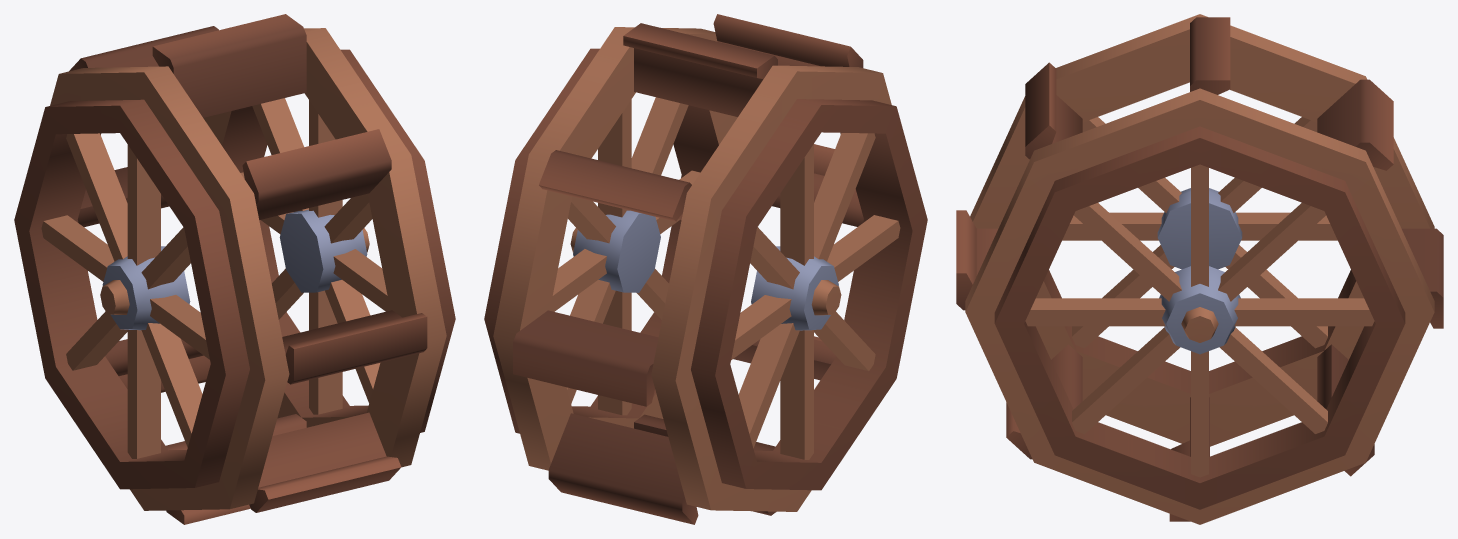
Rendered from watermill-wide.glb.
3 renders of one model, left to right at view 1: azimuth 30°, elevation 25°; view 2: azimuth 150°, elevation 25°; view 3: azimuth 270°, elevation 25°, orthographic. The views are drawn at different scales.
Parts seen in each view (by area): view 1: watermill-wide; view 2: watermill-wide; view 3: watermill-wide.
Boxes of the visible parts, x1,y1,x2,y2 form: watermill-wide: (14,14,455,524); watermill-wide: (484,14,927,524); watermill-wide: (956,14,1443,524).
Bounding box in the file's own units: 1.05 × 1.8 × 1.8.
